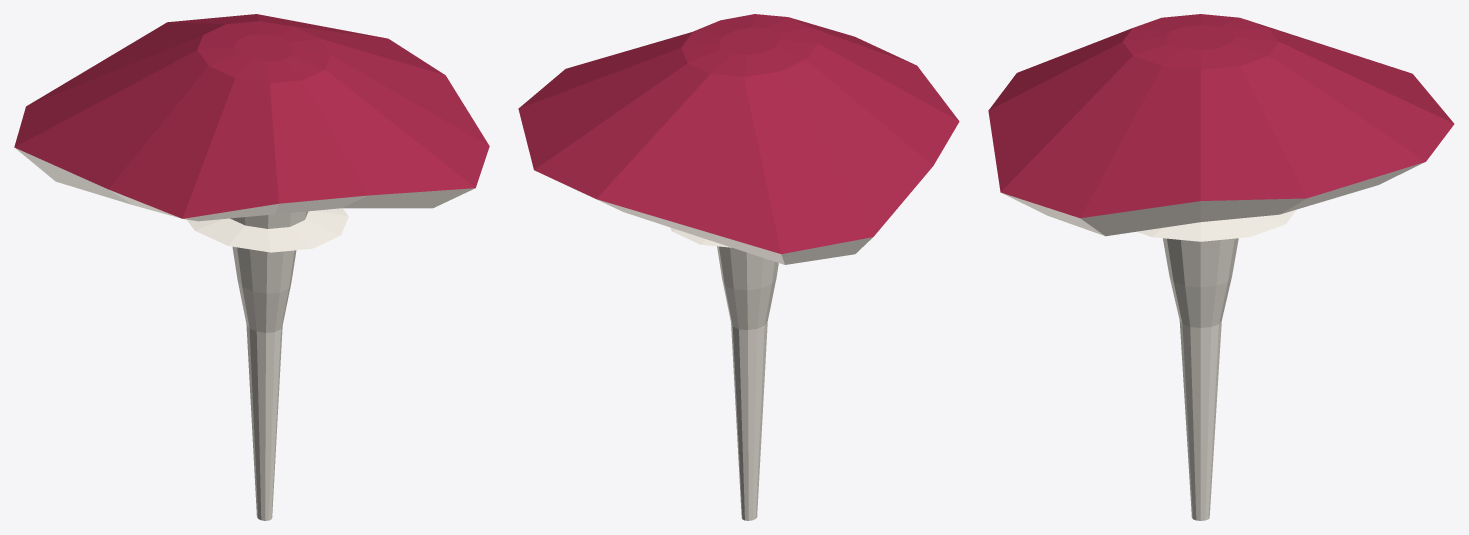
The model's file is MUSHROM2.fbx.
3 renders of one model, left to right at view 1: azimuth 30°, elevation 25°; view 2: azimuth 150°, elevation 25°; view 3: azimuth 270°, elevation 25°, orthographic. The views are drawn at different scales.
Visible parts, largest first — view 1: Cube.001; view 2: Cube.001; view 3: Cube.001.
Boxes of the visible parts, <box> form: Cube.001: <box>14,14,489,520</box>; Cube.001: <box>518,14,959,520</box>; Cube.001: <box>988,14,1454,520</box>.
Size of the model in its own units: 8.44 by 10.3 by 9.06.
